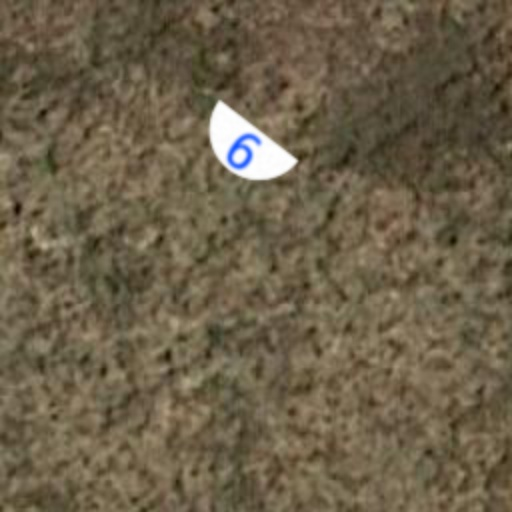semicircle: (172, 78, 316, 222)
